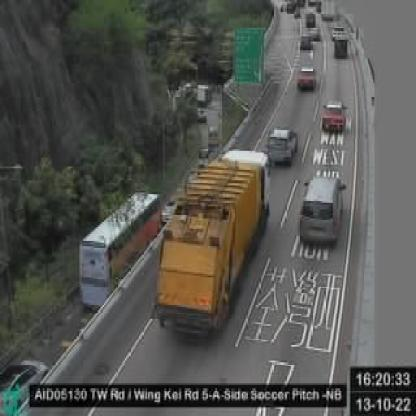Bus: (79, 192, 166, 315)
Car: (299, 175, 344, 244), (0, 350, 50, 408), (266, 127, 298, 167), (324, 98, 346, 134), (298, 64, 316, 90), (298, 34, 313, 51), (308, 27, 322, 43), (332, 24, 345, 40), (306, 12, 316, 29)
Truck: (152, 151, 272, 340), (335, 36, 350, 60)
